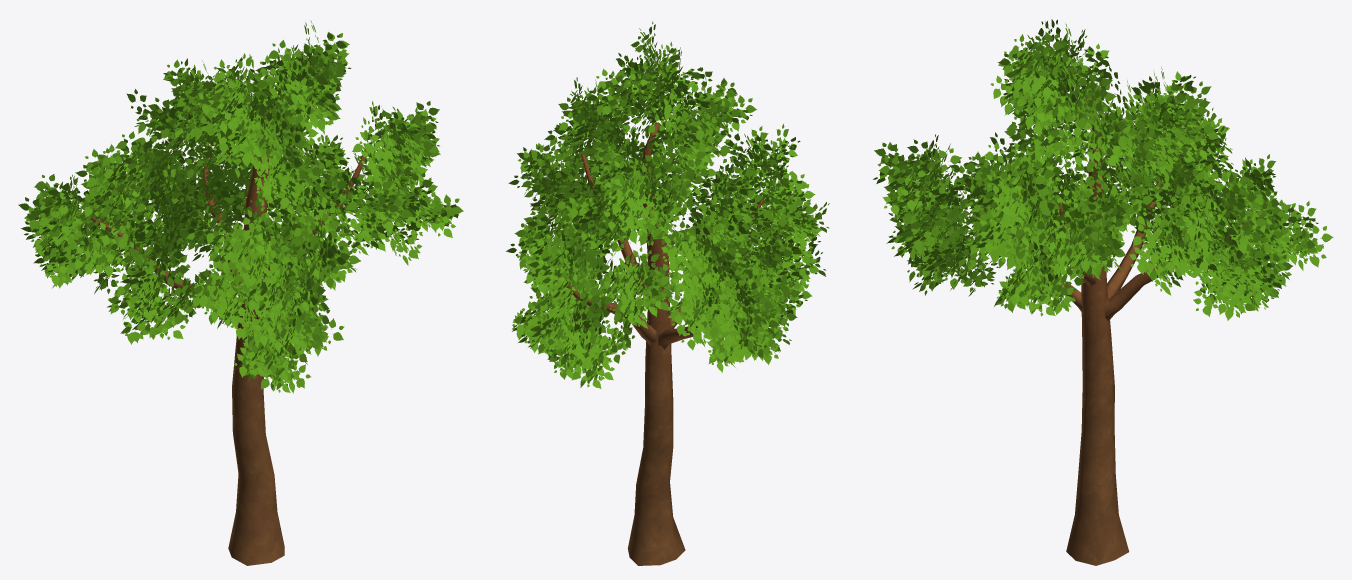
File: SM_Tree_01.fbx
The picture shows the model from 3 angles, left to right: view 1: azimuth 30°, elevation 25°; view 2: azimuth 150°, elevation 25°; view 3: azimuth 270°, elevation 25°; orthographic projection. The views are drawn at different scales.
Visible parts, largest first — view 1: SM_Tree_01; view 2: SM_Tree_01; view 3: SM_Tree_01.
Part boxes in pixels (box(x1,y1,x2,y2)): SM_Tree_01: box(18, 20, 463, 565); SM_Tree_01: box(506, 21, 829, 565); SM_Tree_01: box(873, 19, 1333, 565).
Size of the model in its own units: 324 by 375 by 473.
